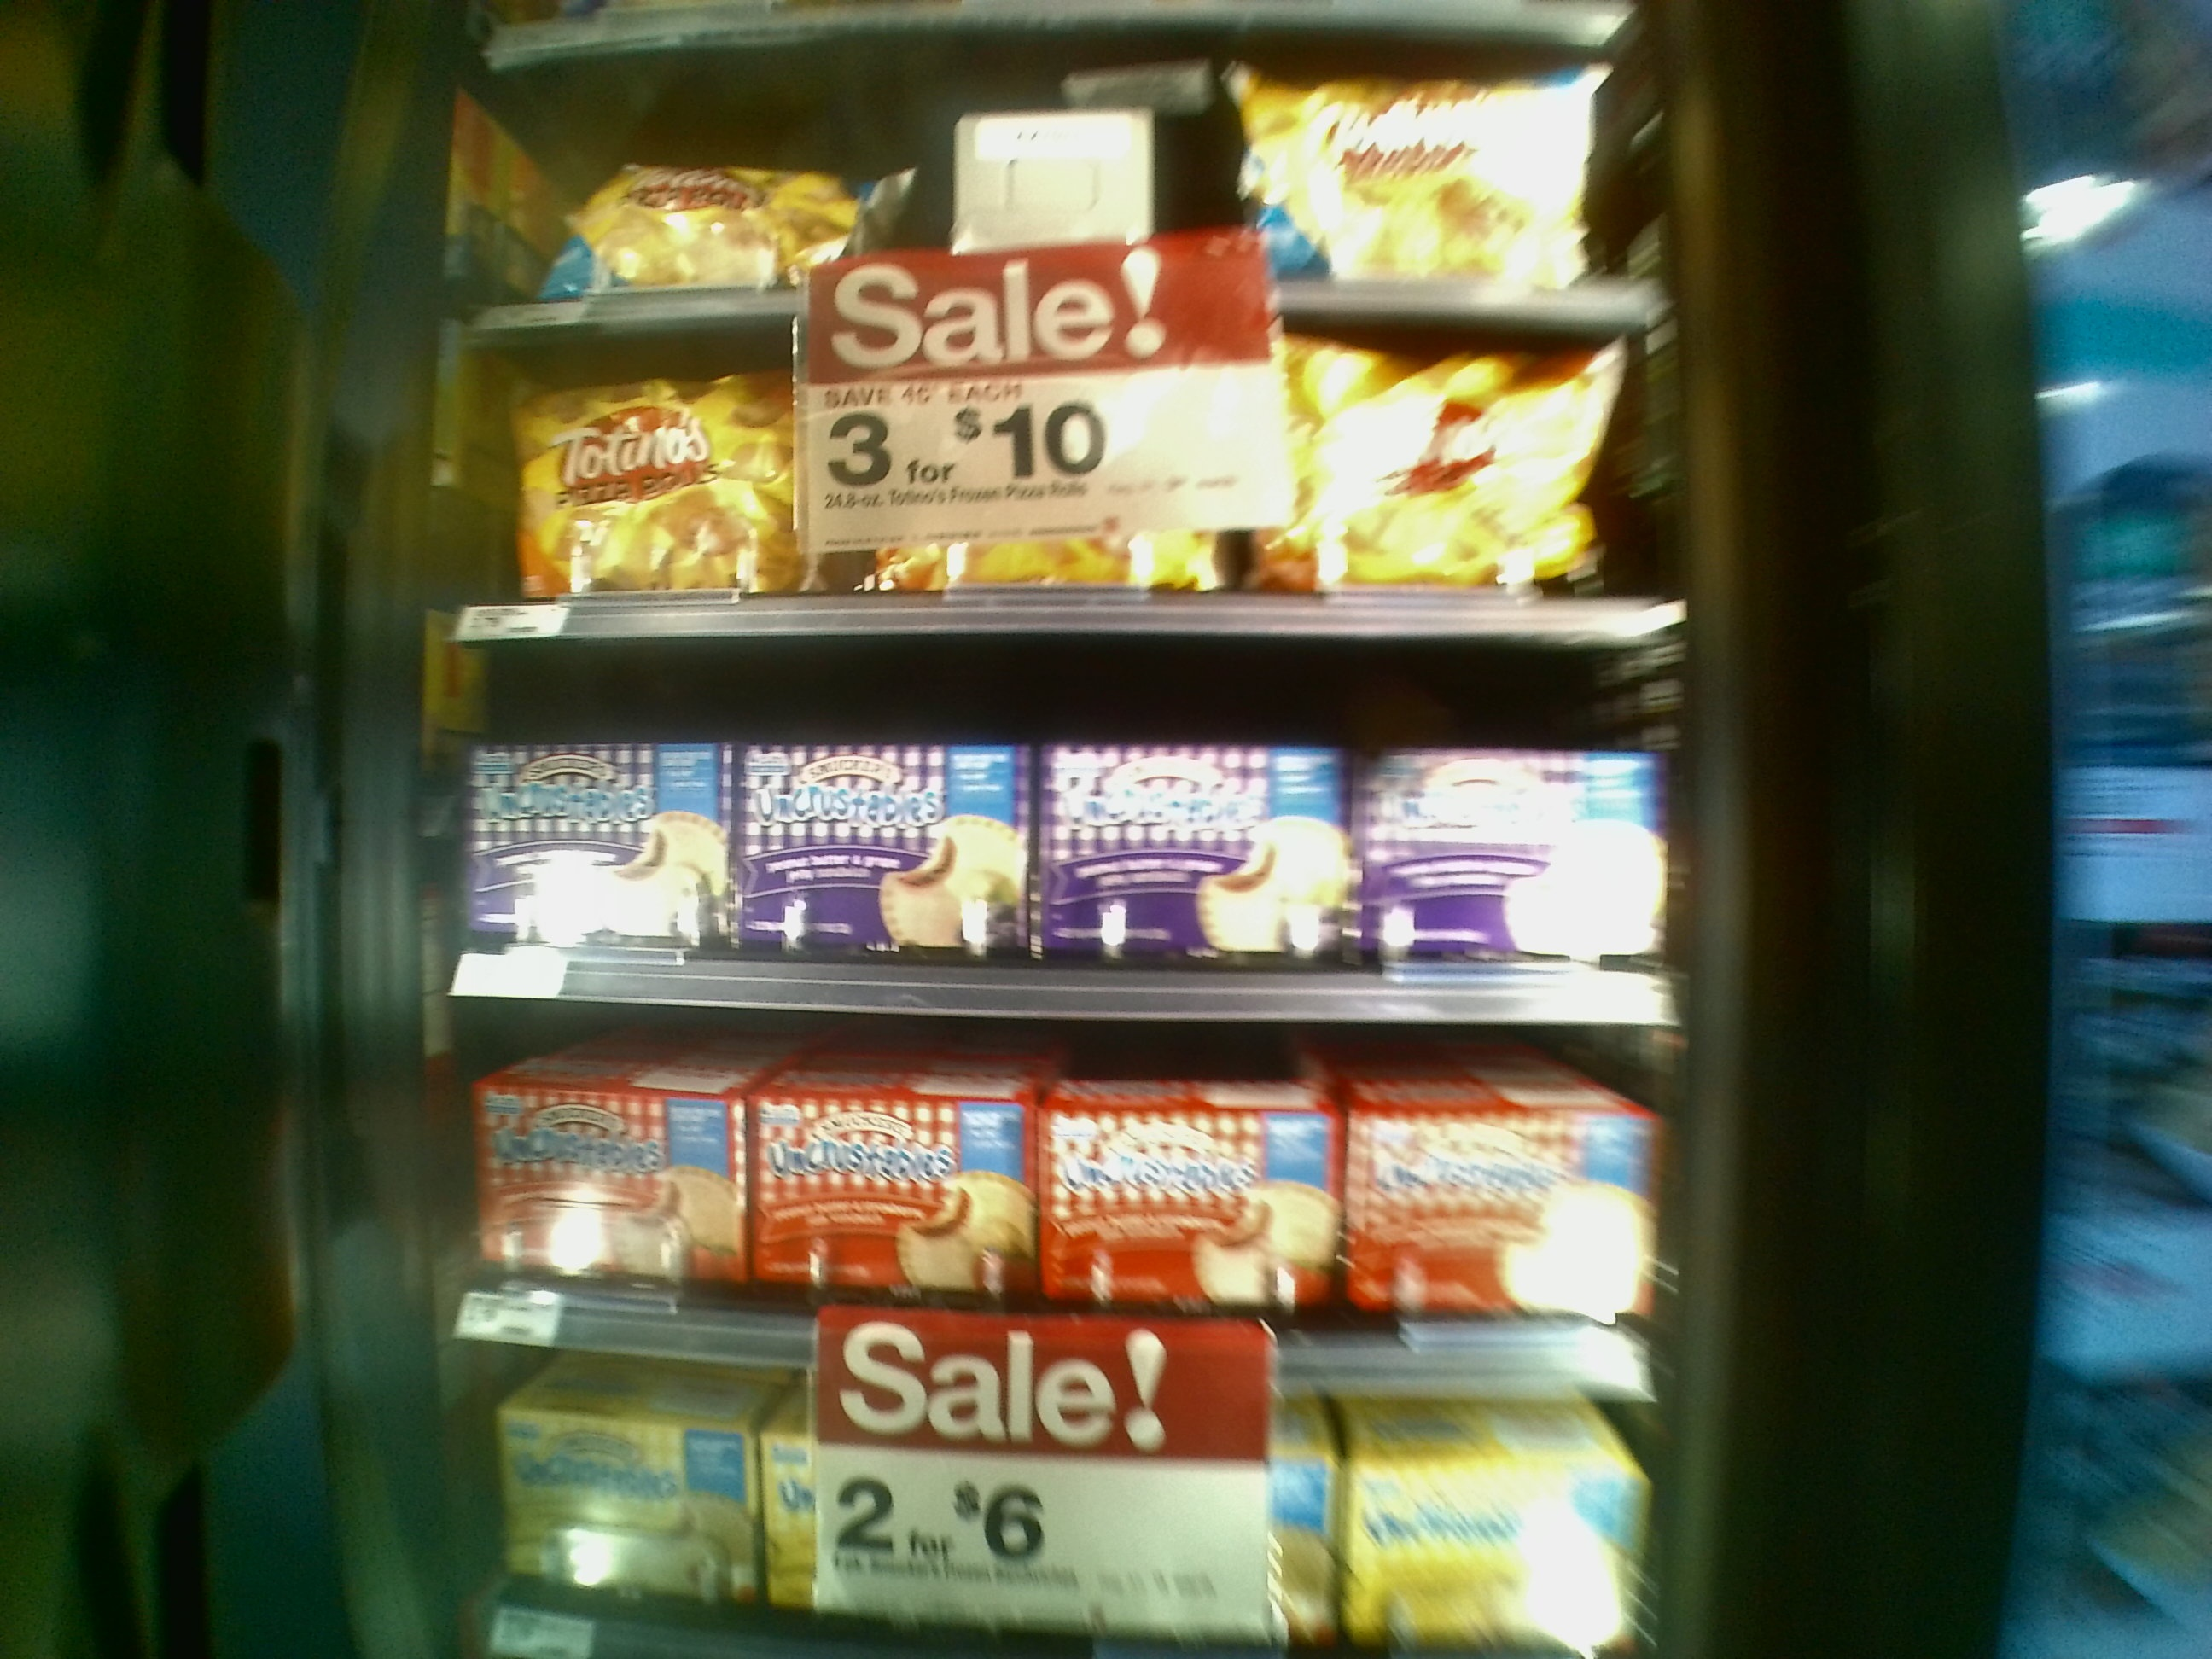shelf: (404, 995, 1672, 1412), (415, 638, 1679, 1042), (423, 324, 1683, 633)
